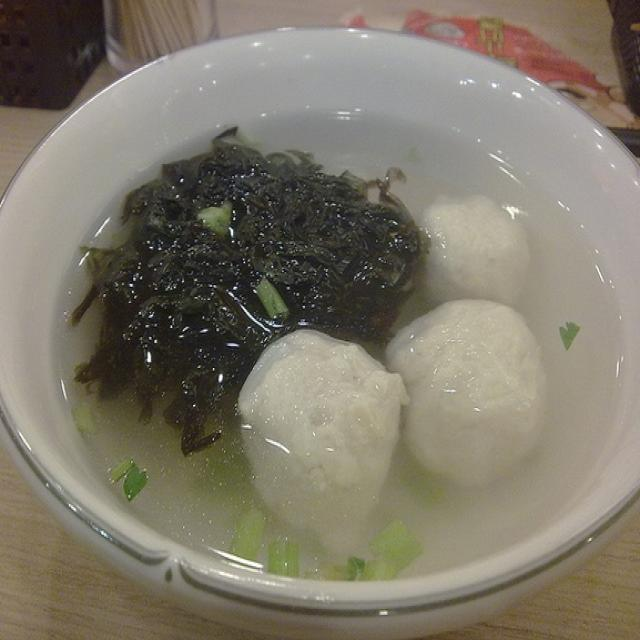熟制海鲜: (3, 31, 638, 631)
